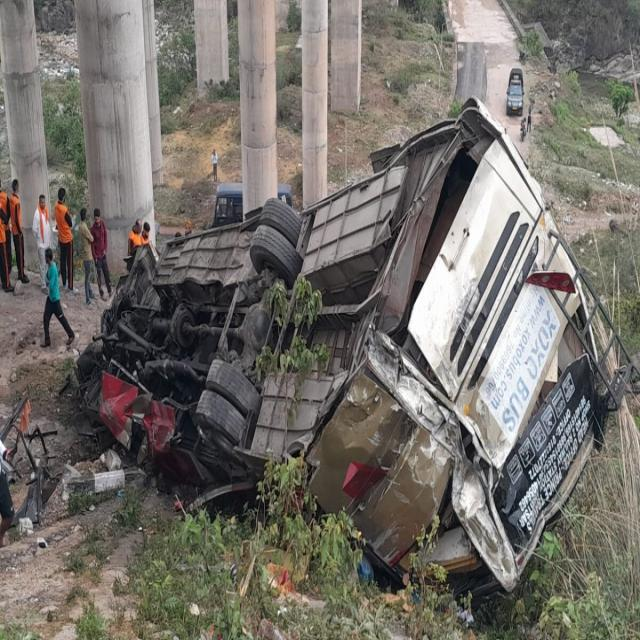accident: (80, 98, 632, 590)
car: (506, 69, 522, 116)
